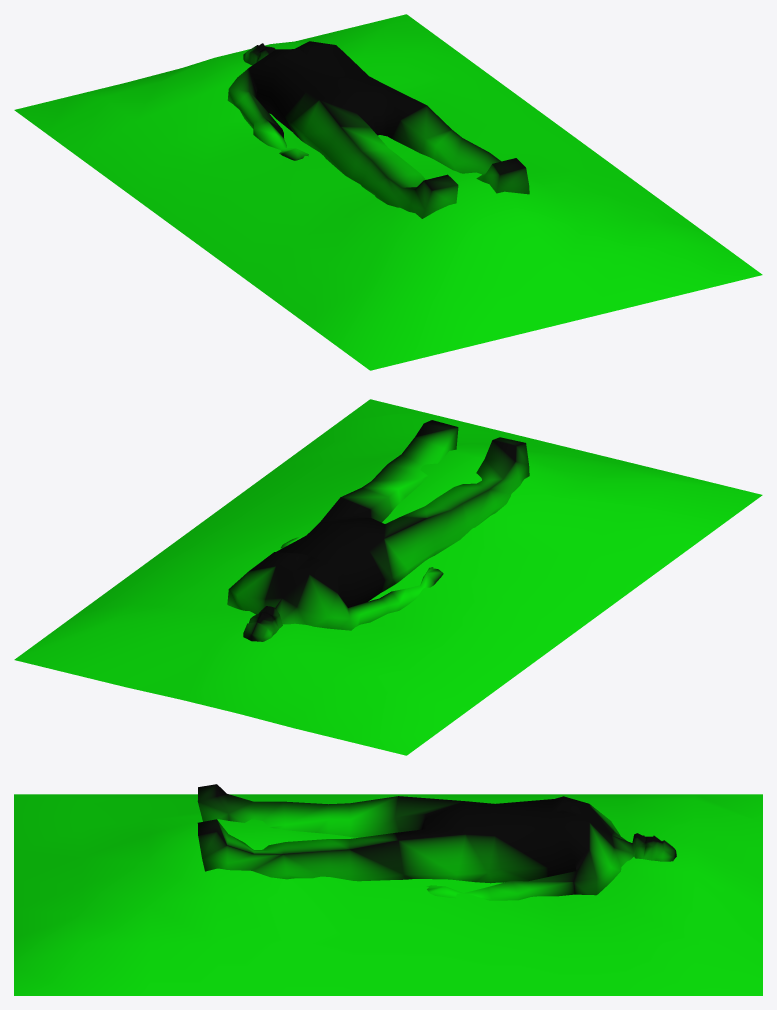
The model's file is ColossalPaths4Model.fbx.
3 views of the same model, one above another, from view 1: azimuth 30°, elevation 25°; view 2: azimuth 150°, elevation 25°; view 3: azimuth 270°, elevation 25° (orthographic). The views are drawn at different scales.
Parts seen in each view (by area): view 1: Colossal_Paths.003; view 2: Colossal_Paths.003; view 3: Colossal_Paths.003.
Part boxes in pixels (x1=…): Colossal_Paths.003: x1=14, y1=14, x2=762, y2=370; Colossal_Paths.003: x1=14, y1=399, x2=762, y2=755; Colossal_Paths.003: x1=14, y1=784, x2=762, y2=995.
Size of the model in its own units: 13458 by 2727 by 21149.
